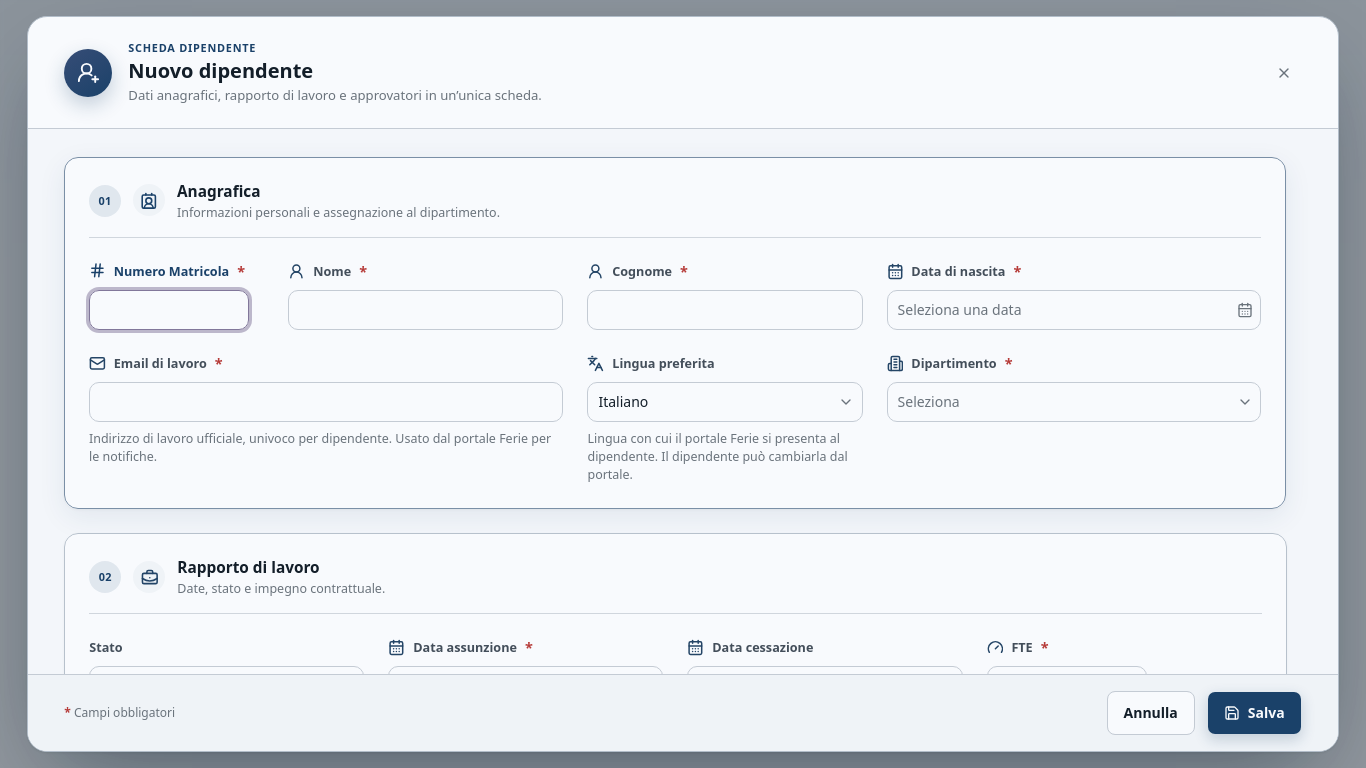
Scenario: EmployeeForm modal › suggests the conventional work email once both names are filled
A first name alone is not enough to build an address from.
Type "Andrea" into the field named "Nome".
click(426, 310); type("Andrea")  # box [289,290,564,330]
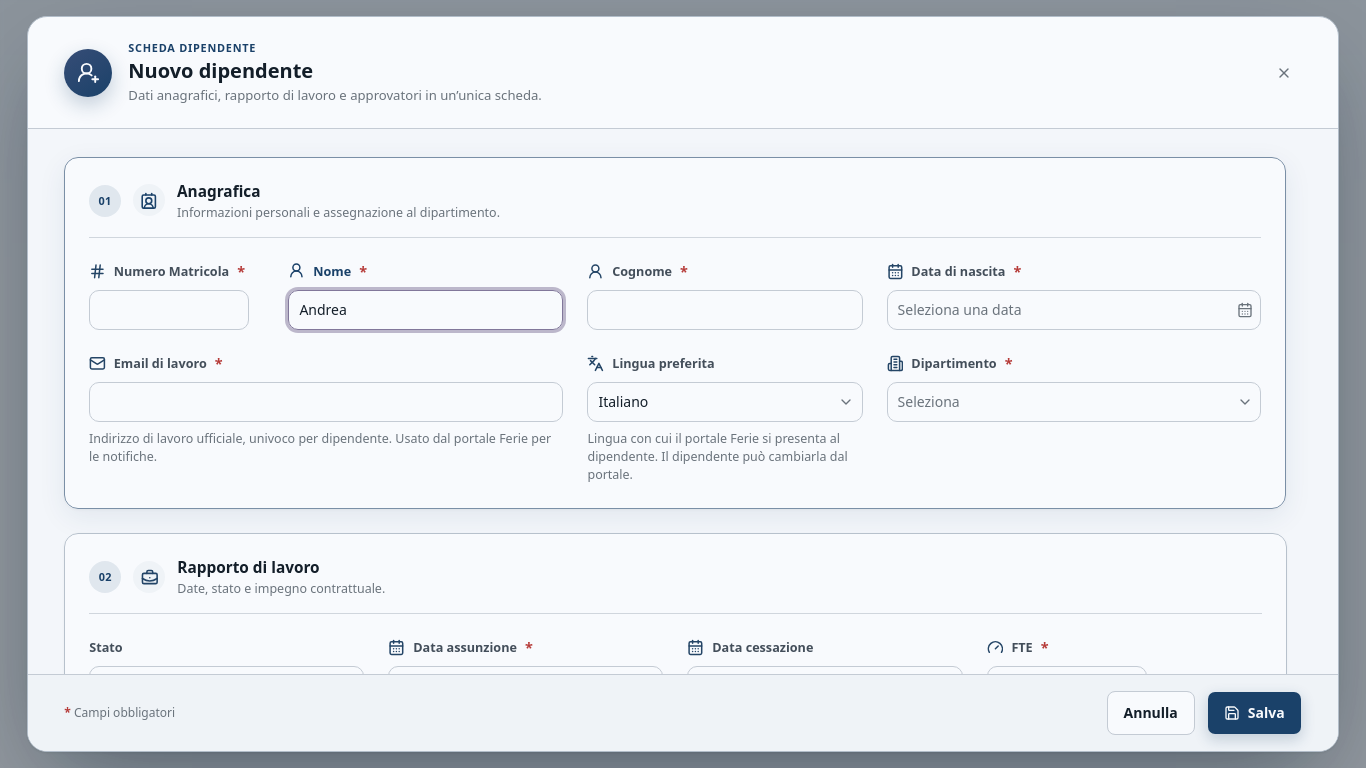
Type "Caselli" into the field named "Cognome".
click(725, 310); type("Caselli")  # box [588,290,863,330]
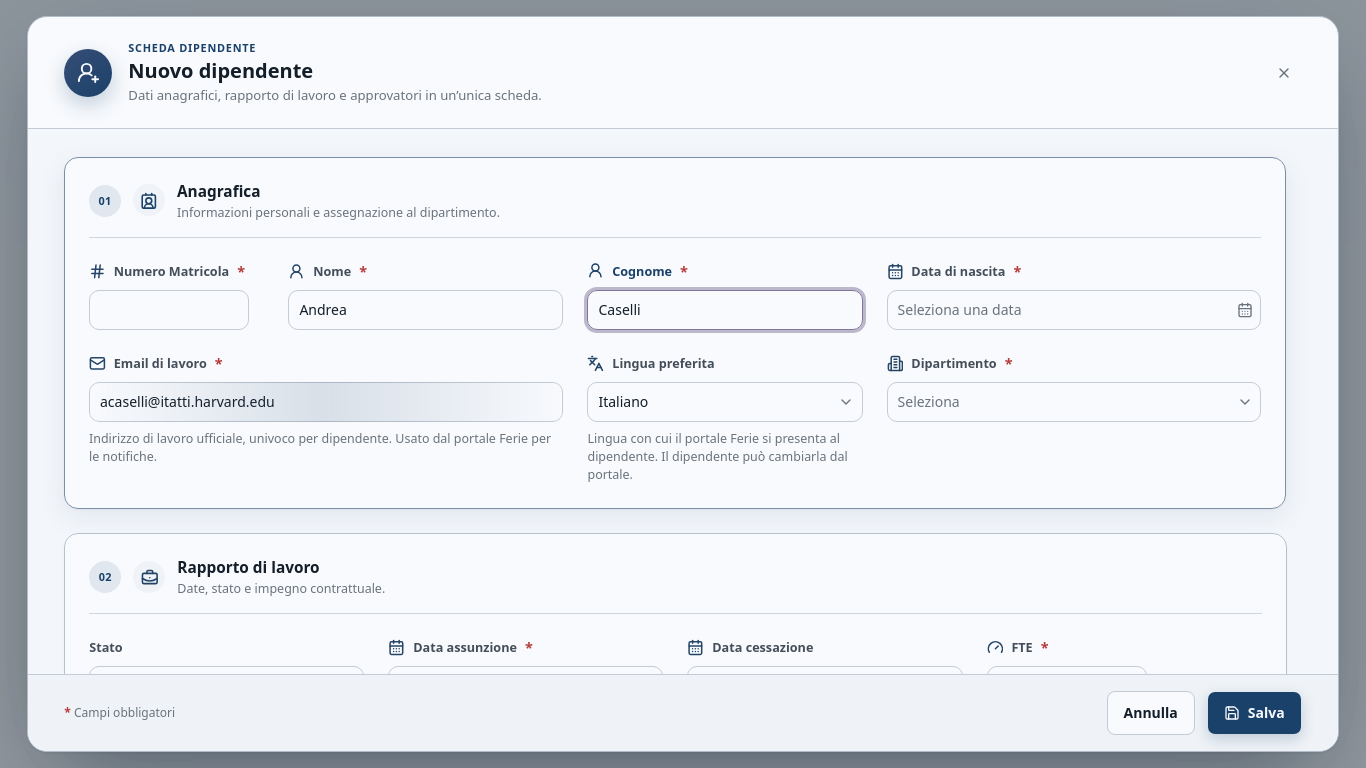
Now the field named "Email di lavoro" holds "acaselli@itatti.harvard.edu", box [89,382,564,422]
